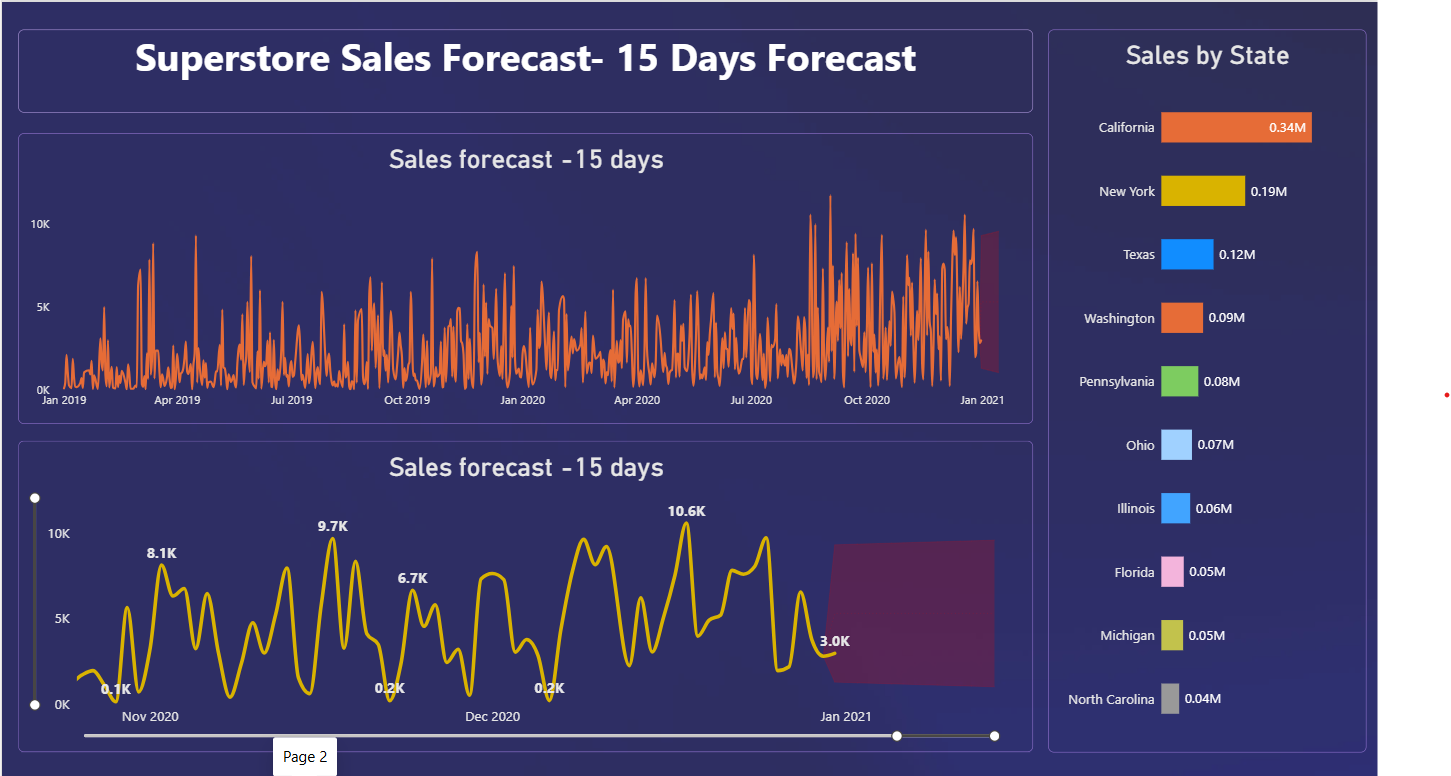

This screenshot's page, from the dashboard's own definition file:
{"tool":"powerbi","page":{"name":"Page 2","canvas":[1920,1080],"ordinal":1},"visuals":[{"type":"lineChart","title":"Sales forecast -15 days","fields":{"Y":["Sum(SuperStore_Sales_Dataset.Sales)"],"Category":["SuperStore_Sales_Dataset.Order Date"]},"box":[21.8,183.6,1416.4,405.5],"z":0},{"type":"lineChart","title":"Sales forecast -15 days","fields":{"Y":["Sum(SuperStore_Sales_Dataset.Sales)"],"Category":["SuperStore_Sales_Dataset.Order Date"]},"box":[21.8,612.7,1416.4,434.5],"z":1},{"type":"textbox","box":[21.8,38.2,1416.4,116.4],"z":2},{"type":"textbox","box":[1620,140,300,300],"z":3},{"type":"clusteredBarChart","title":"Sales by State","fields":{"Category":["SuperStore_Sales_Dataset.State"],"Y":["Sum(SuperStore_Sales_Dataset.Sales)"]},"box":[1460,38.2,443.6,1009.1],"z":4}]}

Visuals, with their boxes on the page's 1920x1080 design canvas (x1, y1, x2, y2). These are canvas units, not pixel positions in the 1451x776 screenshot, which may show the page scaled, cropped or inside an application window:
"Sales forecast -15 days" lineChart: select_region(22, 184, 1438, 589)
"Sales forecast -15 days" lineChart: select_region(22, 613, 1438, 1047)
textbox: select_region(22, 38, 1438, 155)
textbox: select_region(1620, 140, 1920, 440)
"Sales by State" clusteredBarChart: select_region(1460, 38, 1904, 1047)
